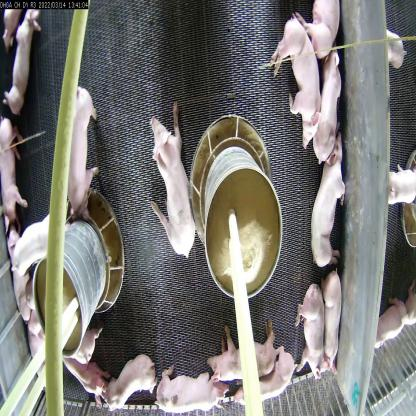Pig: (141, 105, 201, 256), (270, 8, 318, 161), (56, 69, 104, 213), (16, 310, 110, 370), (3, 7, 46, 115), (306, 157, 342, 282), (158, 357, 232, 415), (93, 349, 154, 415), (308, 46, 342, 164), (208, 322, 277, 377), (301, 0, 348, 67), (13, 213, 61, 277), (233, 352, 296, 400), (360, 293, 407, 356), (298, 284, 326, 382), (0, 113, 25, 221), (384, 154, 416, 221), (65, 356, 112, 400), (324, 272, 346, 362)
